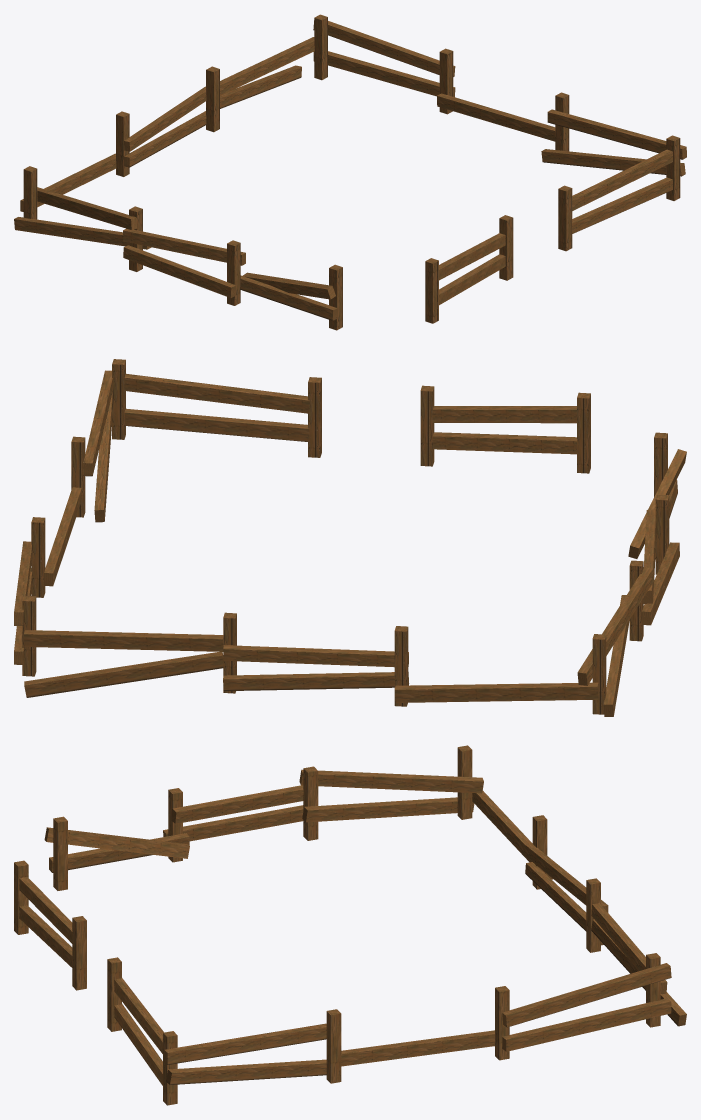
The model's file is farm fence.fbx.
The picture shows the model from 3 angles, top to bottom: view 1: azimuth 30°, elevation 25°; view 2: azimuth 150°, elevation 25°; view 3: azimuth 270°, elevation 25°; orthographic projection. The views are drawn at different scales.
Visible parts, largest first — view 1: Cube.112, Cube.113, Cube.116, Cube.132, Cube.115, Cube.133, Cube.110, Cube.114, Cube.109, Cube.111, Cube.139, Cube.136 (+20 smaller); view 2: Cube.134, Cube.138, Cube.136, Cube.110, Cube.109, Cube.135, Cube.137, Cube.107, Cube.108, Cube.139, Cube.113, Cube.112 (+19 smaller); view 3: Cube.116, Cube.115, Cube.139, Cube.112, Cube.111, Cube.133, Cube.113, Cube.114, Cube.132, Cube.131, Cube.130, Cube.136 (+21 smaller).
Boxes of the visible parts, x1=… form: Cube.112: x1=547, y1=109, x2=686, y2=159; Cube.113: x1=437, y1=93, x2=555, y2=141; Cube.116: x1=313, y1=20, x2=455, y2=76; Cube.132: x1=123, y1=245, x2=235, y2=297; Cube.115: x1=313, y1=51, x2=455, y2=97; Cube.133: x1=14, y1=217, x2=151, y2=249; Cube.110: x1=572, y1=149, x2=672, y2=210; Cube.114: x1=123, y1=228, x2=245, y2=265; Cube.109: x1=572, y1=177, x2=672, y2=233; Cube.111: x1=541, y1=149, x2=685, y2=176; Cube.139: x1=37, y1=187, x2=137, y2=230; Cube.136: x1=220, y1=37, x2=314, y2=95; Cube.134: x1=394, y1=682, x2=599, y2=702; Cube.138: x1=24, y1=651, x2=223, y2=697; Cube.136: x1=23, y1=630, x2=223, y2=651; Cube.110: x1=124, y1=373, x2=309, y2=413; Cube.109: x1=124, y1=408, x2=309, y2=441; Cube.135: x1=223, y1=645, x2=408, y2=667; Cube.137: x1=223, y1=672, x2=409, y2=691; Cube.107: x1=432, y1=432, x2=576, y2=454; Cube.108: x1=432, y1=406, x2=576, y2=423; Cube.139: x1=577, y1=567, x2=654, y2=685; Cube.113: x1=44, y1=487, x2=81, y2=586; Cube.112: x1=83, y1=370, x2=112, y2=476; Cube.116: x1=502, y1=963, x2=671, y2=1027; Cube.115: x1=502, y1=998, x2=671, y2=1051; Cube.139: x1=299, y1=769, x2=483, y2=793; Cube.112: x1=164, y1=1023, x2=326, y2=1064; Cube.111: x1=166, y1=1059, x2=326, y2=1084; Cube.133: x1=302, y1=797, x2=474, y2=822; Cube.113: x1=341, y1=1030, x2=494, y2=1066; Cube.114: x1=171, y1=785, x2=303, y2=823; Cube.132: x1=163, y1=805, x2=303, y2=841; Cube.131: x1=44, y1=827, x2=189, y2=858; Cube.130: x1=49, y1=833, x2=189, y2=872; Cube.136: x1=591, y1=903, x2=667, y2=994.
Size of the model in its own units: 4588 by 539 by 4348.
